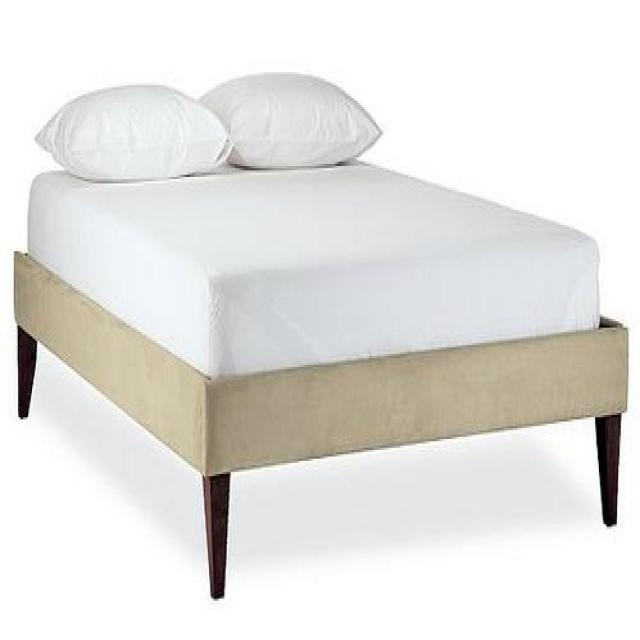bed: (11, 155, 628, 599)
